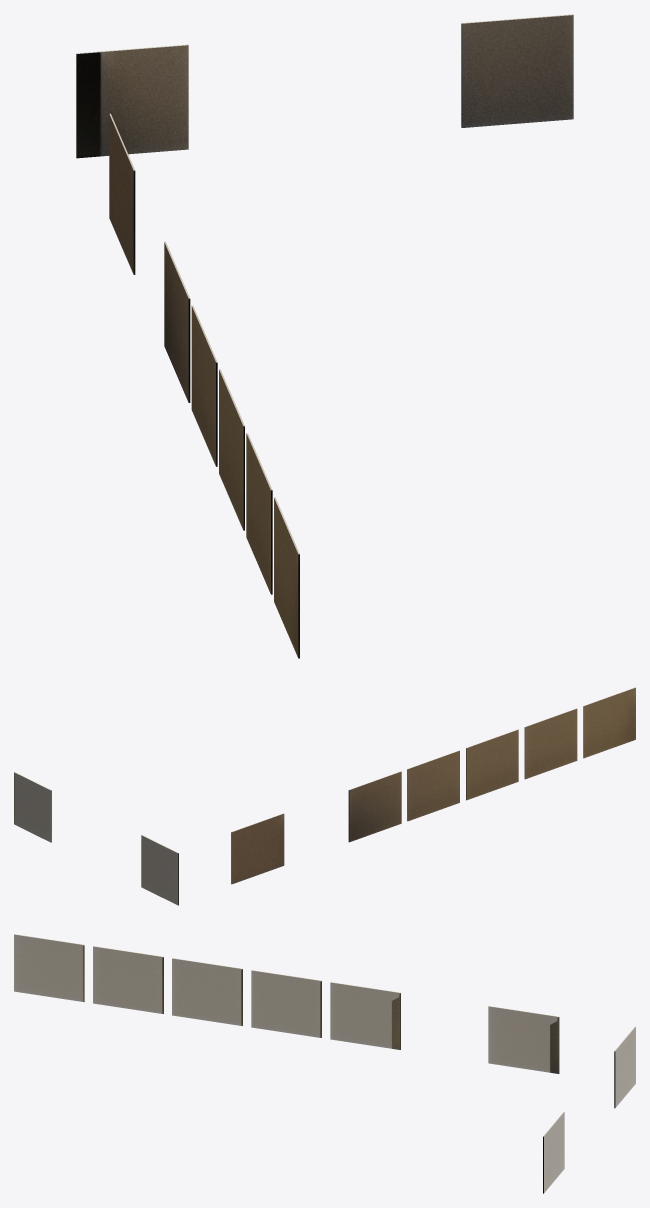
The model's file is Building_05_App_07_Glass.fbx.
3 renders of one model, top to bottom at view 1: azimuth 30°, elevation 25°; view 2: azimuth 150°, elevation 25°; view 3: azimuth 270°, elevation 25°, orthographic. The views are drawn at different scales.
Visible parts, largest first — view 1: Building_05_App_07_Glass; view 2: Building_05_App_07_Glass; view 3: Building_05_App_07_Glass.
Part boxes in pixels (x1,y1,x2,y2): Building_05_App_07_Glass: [76, 14, 573, 658]; Building_05_App_07_Glass: [14, 687, 635, 905]; Building_05_App_07_Glass: [14, 934, 635, 1193].
Size of the model in its own units: 10.55 by 1.38 by 13.69.
1 material, 1 textured.
